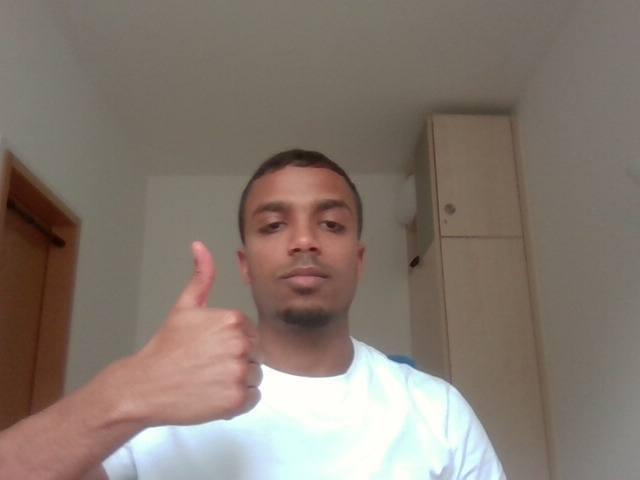yes: (127, 226, 280, 432)
